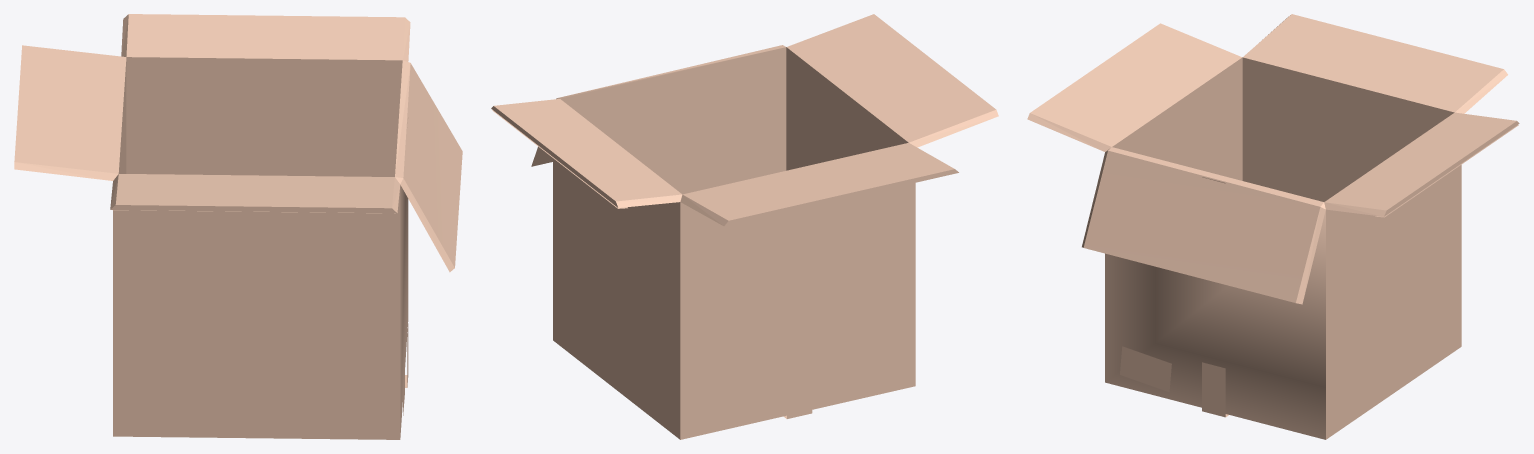
The model's file is kardus.fbx.
3 renders of one model, left to right at view 1: azimuth 30°, elevation 25°; view 2: azimuth 150°, elevation 25°; view 3: azimuth 270°, elevation 25°, orthographic. The views are drawn at different scales.
Visible parts, largest first — view 1: Deco_Box00; view 2: Deco_Box00; view 3: Deco_Box00.
Boxes of the visible parts, bbox=[...] form: Deco_Box00: bbox=[14, 14, 462, 439]; Deco_Box00: bbox=[491, 14, 998, 439]; Deco_Box00: bbox=[1027, 14, 1519, 439].
Size of the model in its own units: 118 by 69.15 by 124.
